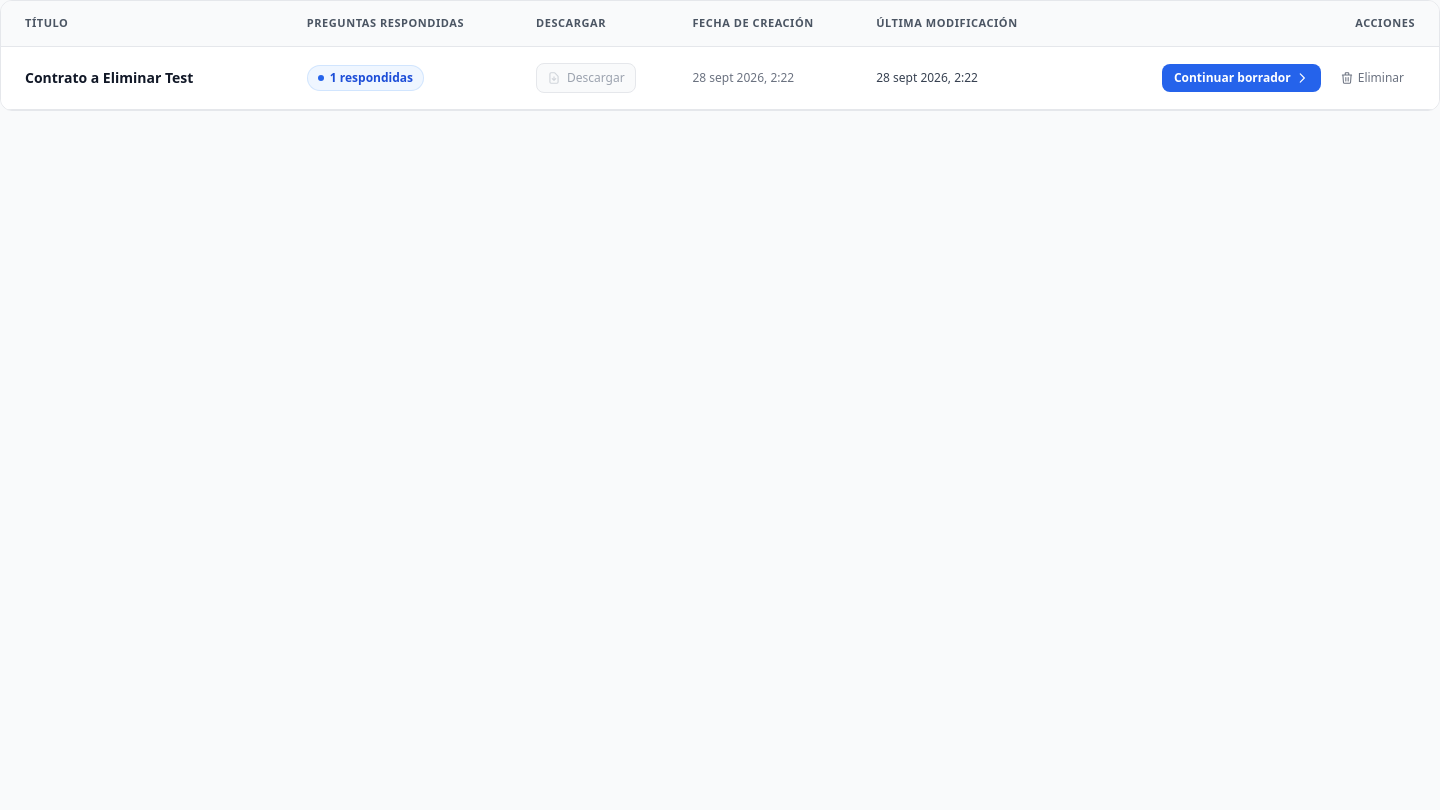
Test: ContractList Component (Dashboard UI & Spanish Localization) › handles safe deletion flow with confirmation modal and optimistic removal
The image size is (1440, 810).
Click the button "Eliminar". click: x=1372, y=78
box: [1329, 62, 1415, 92]
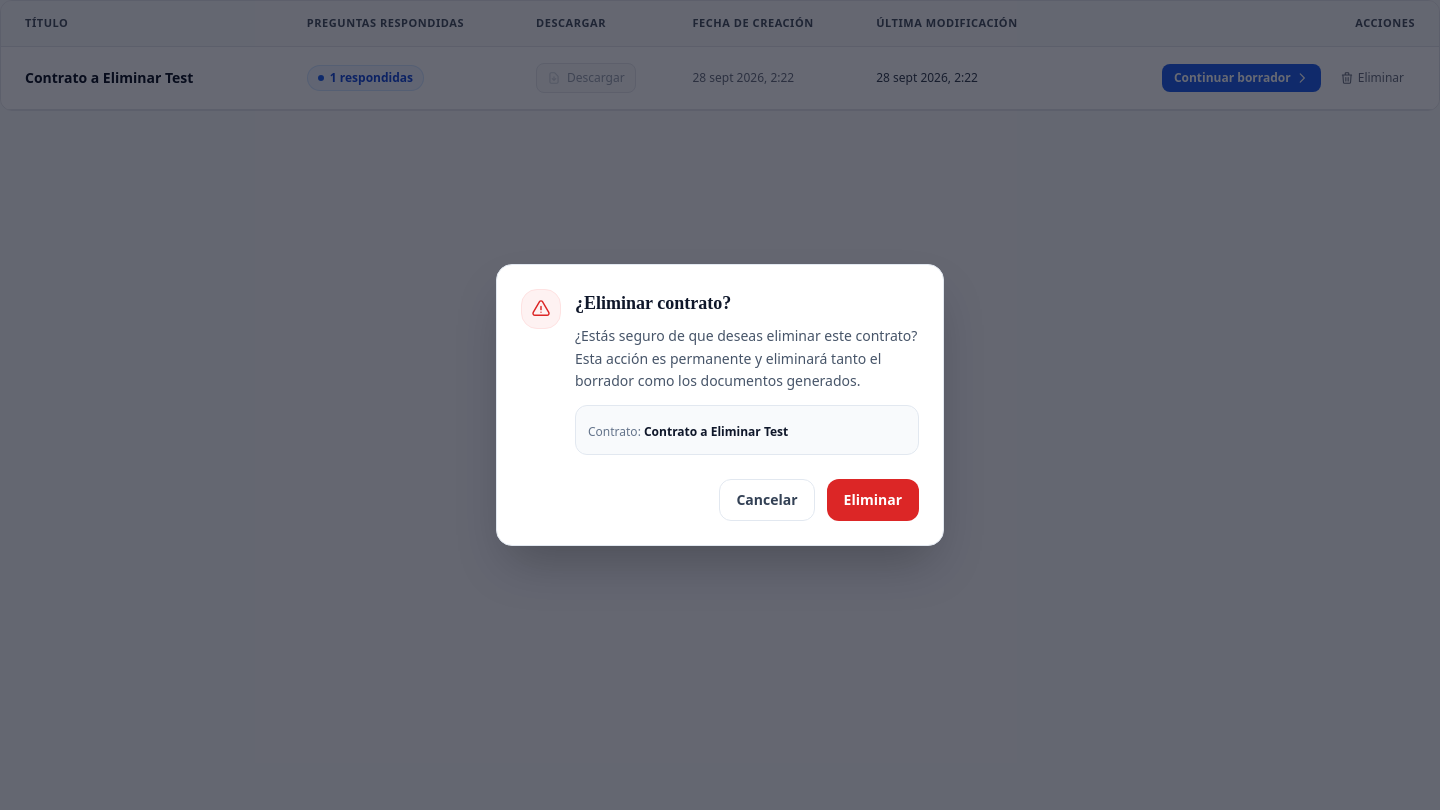
Check: the dialog is shown
Check: the heading "¿Eliminar contrato?" is shown, box [575, 293, 731, 313]
# Click cancel first
Click the button "Cancelar". click: x=767, y=500
box: [720, 479, 815, 521]
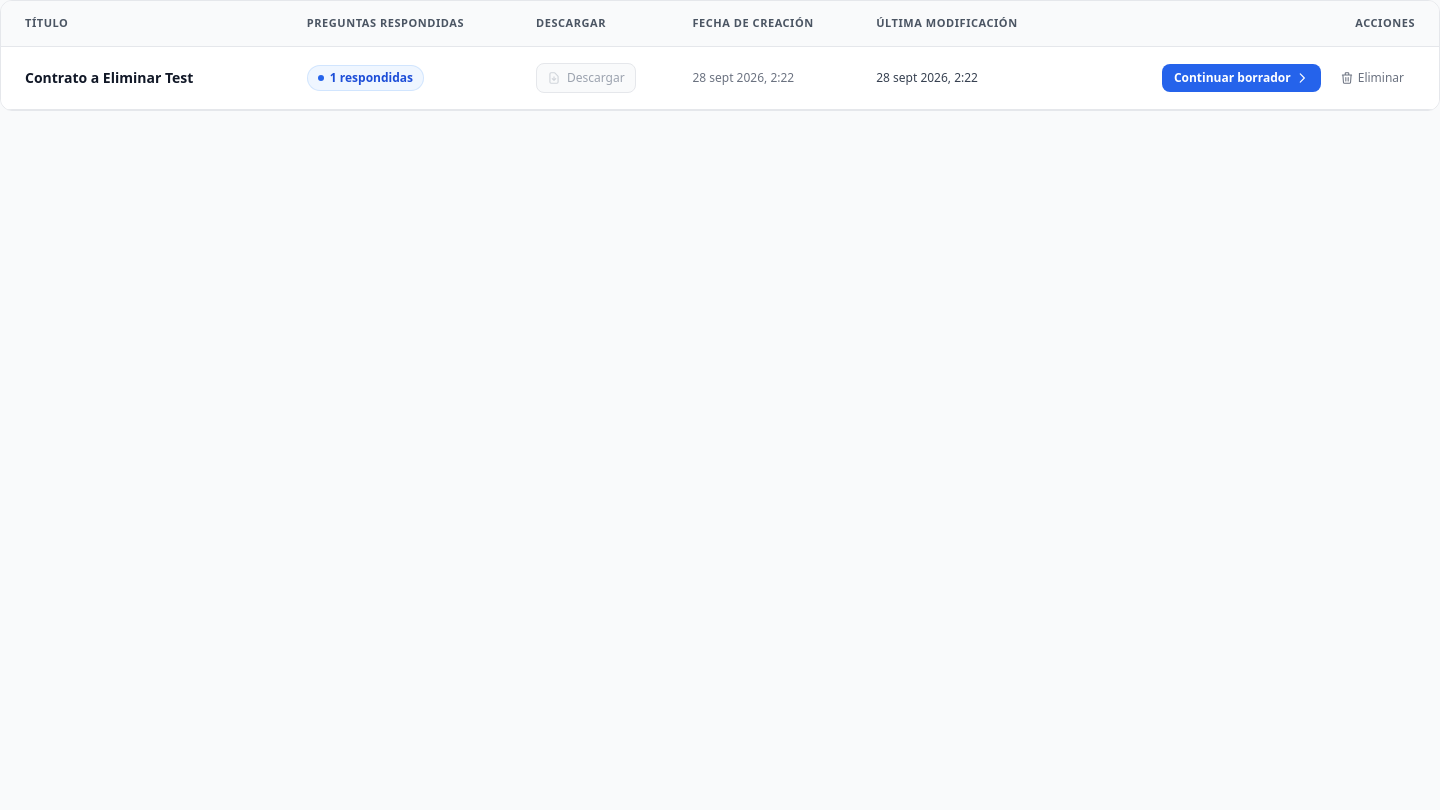
Check: the dialog is gone
# Click delete button again and confirm
Click the button "Eliminar". click: x=1372, y=78
box: [1329, 62, 1415, 92]
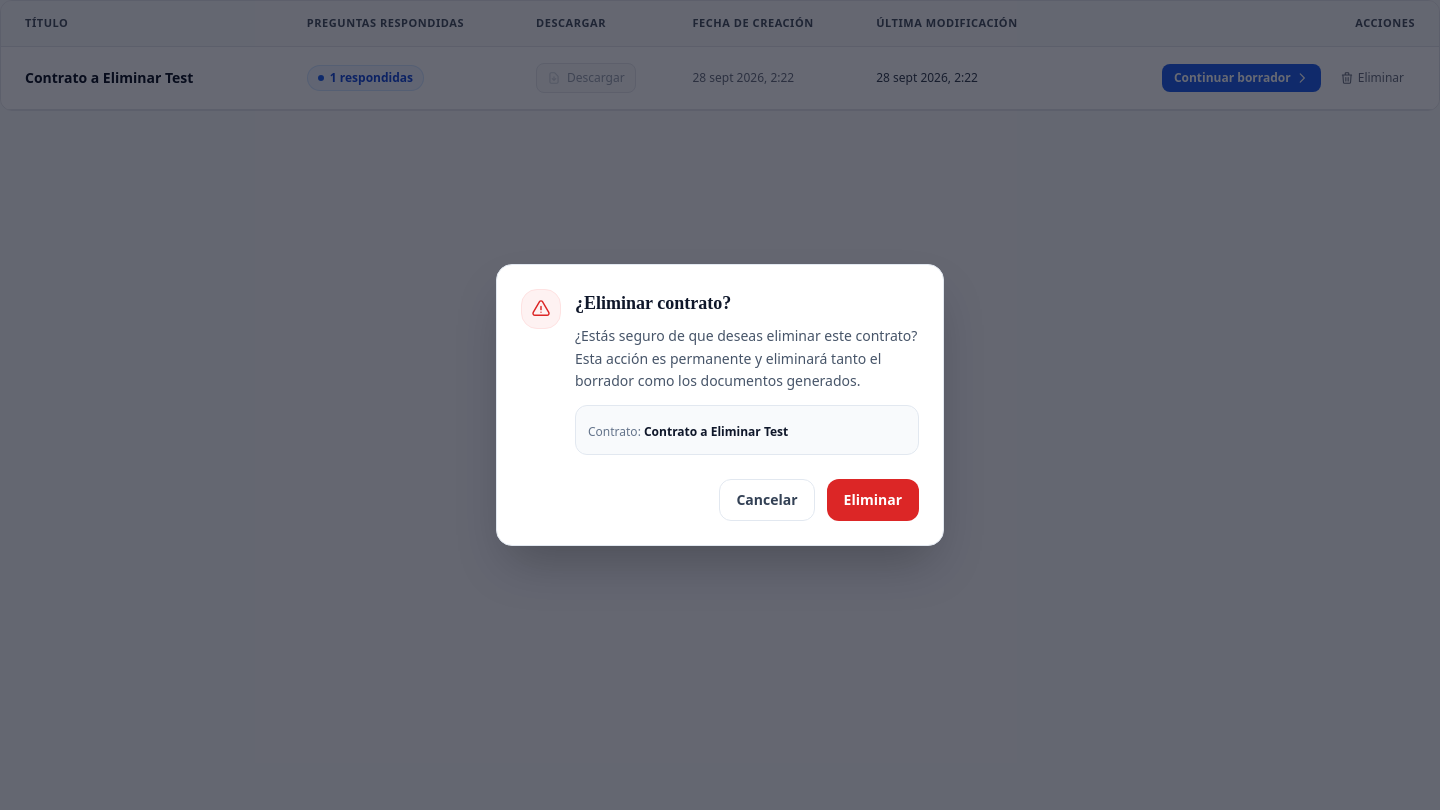
Check: the button "Eliminar" is shown
Click the button "Eliminar". click: x=873, y=500
box: [827, 479, 919, 521]
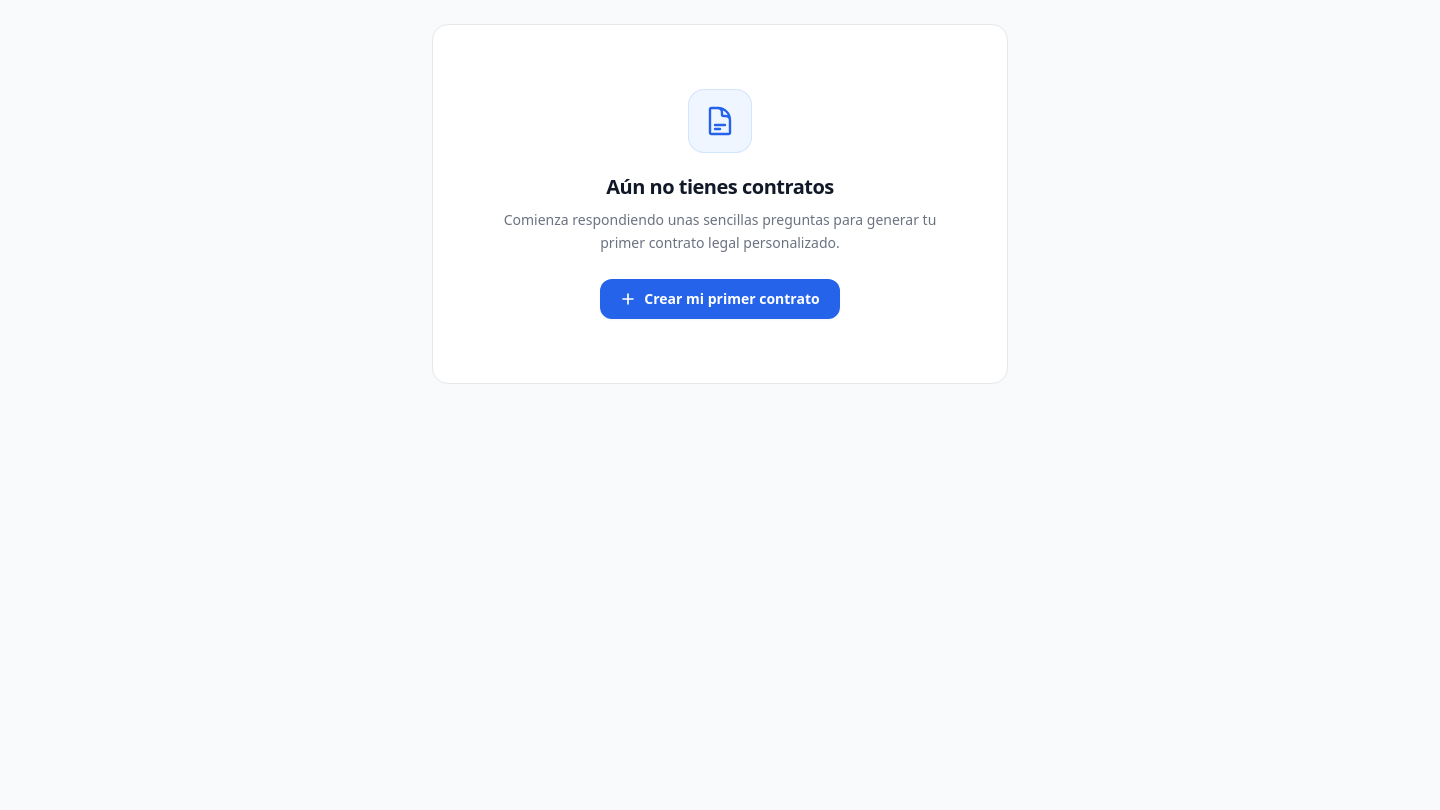
Check: the link "Contrato a Eliminar Test" is gone
Check: the heading "Aún no tienes contratos" is shown, box [606, 173, 834, 200]
